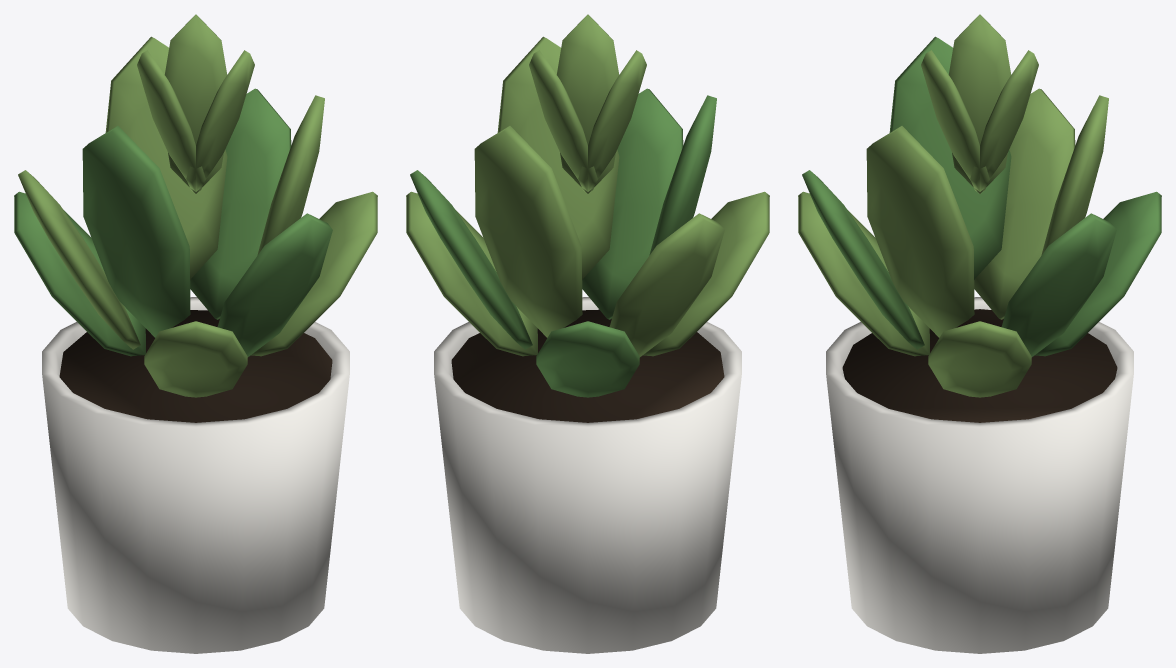
Rendered from potSmall.glb.
The picture shows the model from 3 angles, left to right: view 1: azimuth 30°, elevation 25°; view 2: azimuth 150°, elevation 25°; view 3: azimuth 270°, elevation 25°; orthographic projection.
Parts seen in each view (by area): view 1: potSmall; view 2: potSmall; view 3: potSmall.
Boxes of the visible parts, box(x1,y1,x2,y2) form: potSmall: box(14, 14, 377, 653); potSmall: box(406, 14, 769, 653); potSmall: box(798, 14, 1161, 653).
Size of the model in its own units: 0.1605 by 0.2613 by 0.1536.
